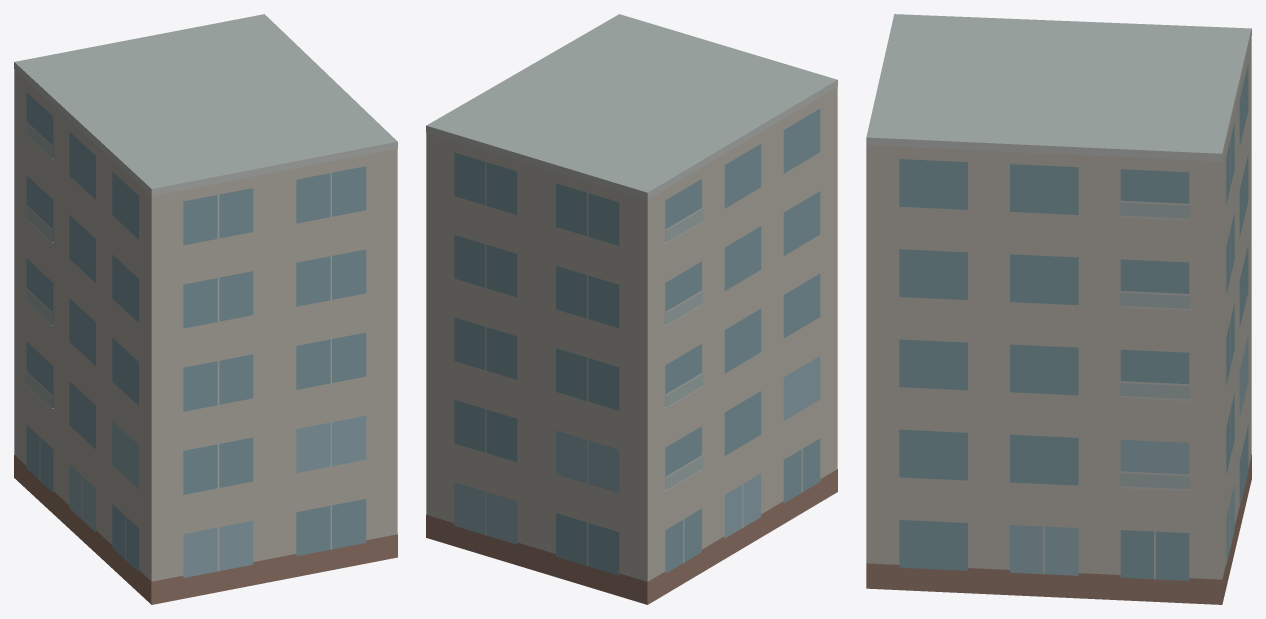
The model's file is survey-upis-32753201.glb.
3 renders of one model, left to right at view 1: azimuth 30°, elevation 25°; view 2: azimuth 150°, elevation 25°; view 3: azimuth 270°, elevation 25°, orthographic. The views are drawn at different scales.
Parts seen in each view (by area): view 1: survey-upis-32753201.tmp; view 2: survey-upis-32753201.tmp; view 3: survey-upis-32753201.tmp.
Boxes of the visible parts, x1=… form: survey-upis-32753201.tmp: x1=14, y1=14, x2=397, y2=604; survey-upis-32753201.tmp: x1=426, y1=14, x2=837, y2=604; survey-upis-32753201.tmp: x1=866, y1=14, x2=1251, y2=604.
Bounding box in the file's own units: 9.65 × 14.5 × 11.24.
